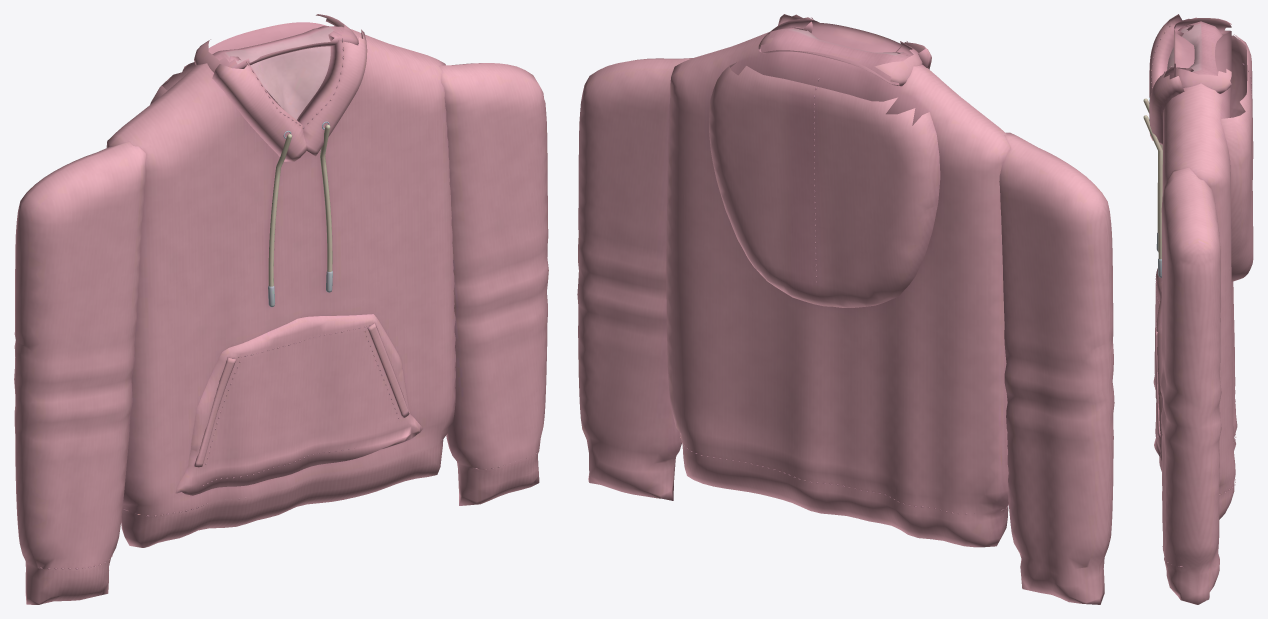
File: hoodie-mesh-revision.glb
The picture shows the model from 3 angles, left to right: view 1: azimuth 30°, elevation 25°; view 2: azimuth 150°, elevation 25°; view 3: azimuth 270°, elevation 25°; orthographic projection. The views are drawn at different scales.
Parts seen in each view (by area): view 1: hoodie_body; view 2: hoodie_body; view 3: hoodie_body.
Part boxes in pixels (x1,y1,x2,y2): hoodie_body: [14, 14, 548, 604]; hoodie_body: [577, 14, 1114, 604]; hoodie_body: [1143, 14, 1253, 604].
Bounding box in the file's own units: 0.8278 × 0.7602 × 0.167.
1 material, 1 textured.
